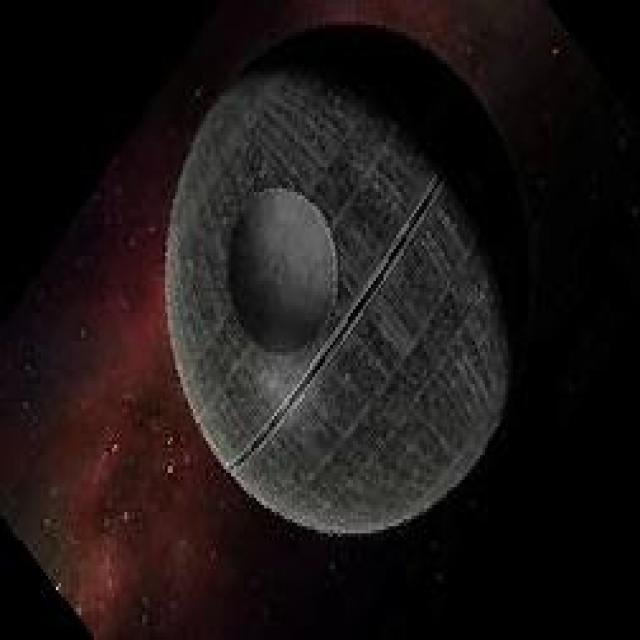Death Star: (146, 13, 560, 542)
